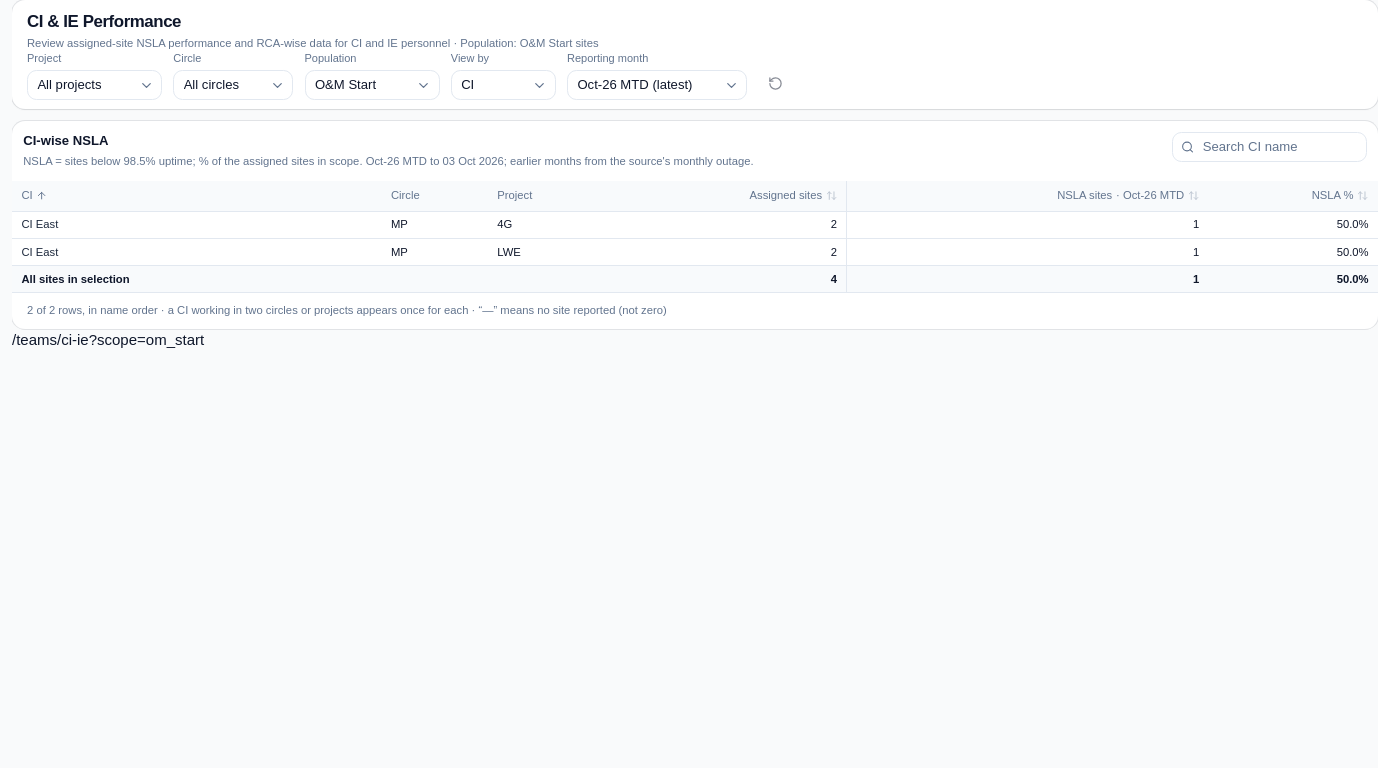
Test: Uptime Buckets & Site Details › Flow B: a CI name opens that person's sites (name, project and circle), with NSLA and Back
Click the link with aria-label "Sites of CI East (LWE MP)".
click(40, 252)  # box [21,246,58,258]
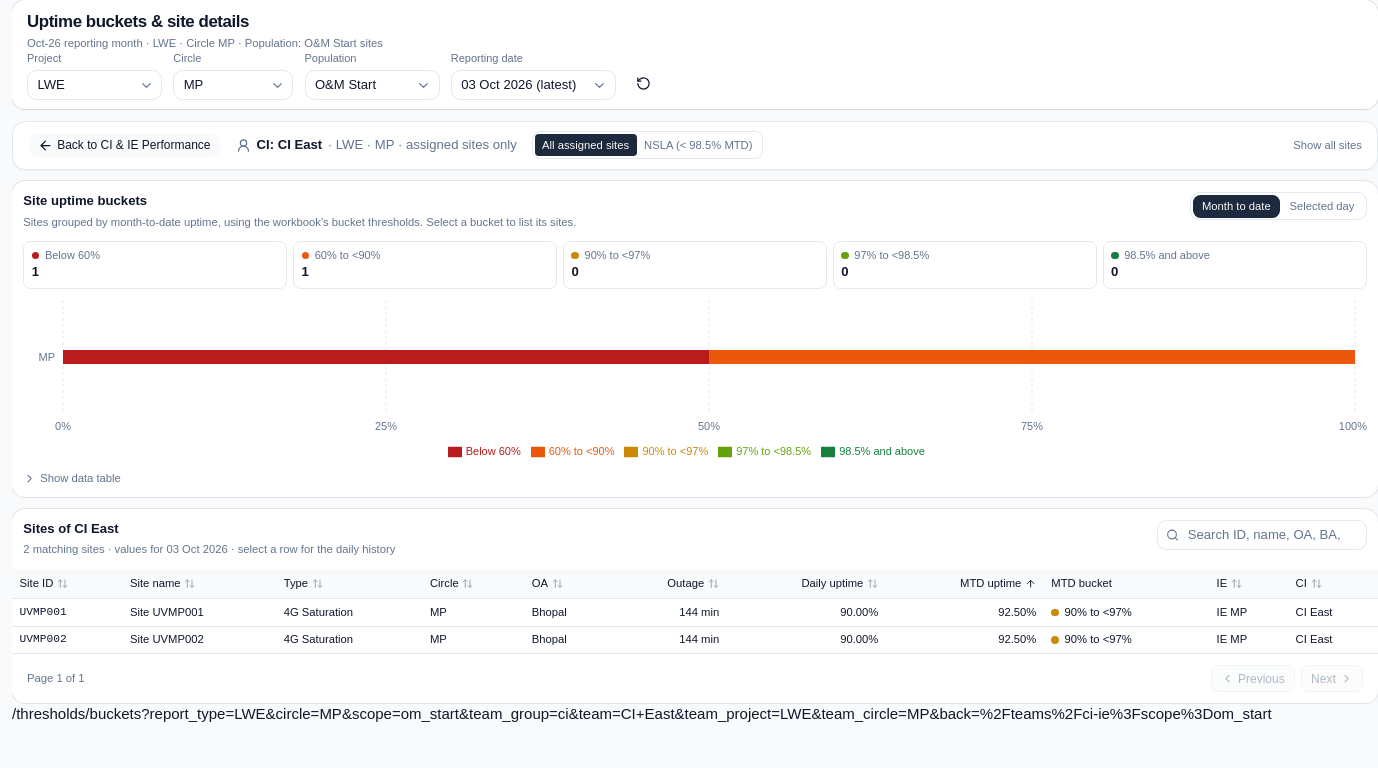
Click the button "NSLA (< 98.5% MTD)".
click(698, 145)  # box [636,134,760,156]
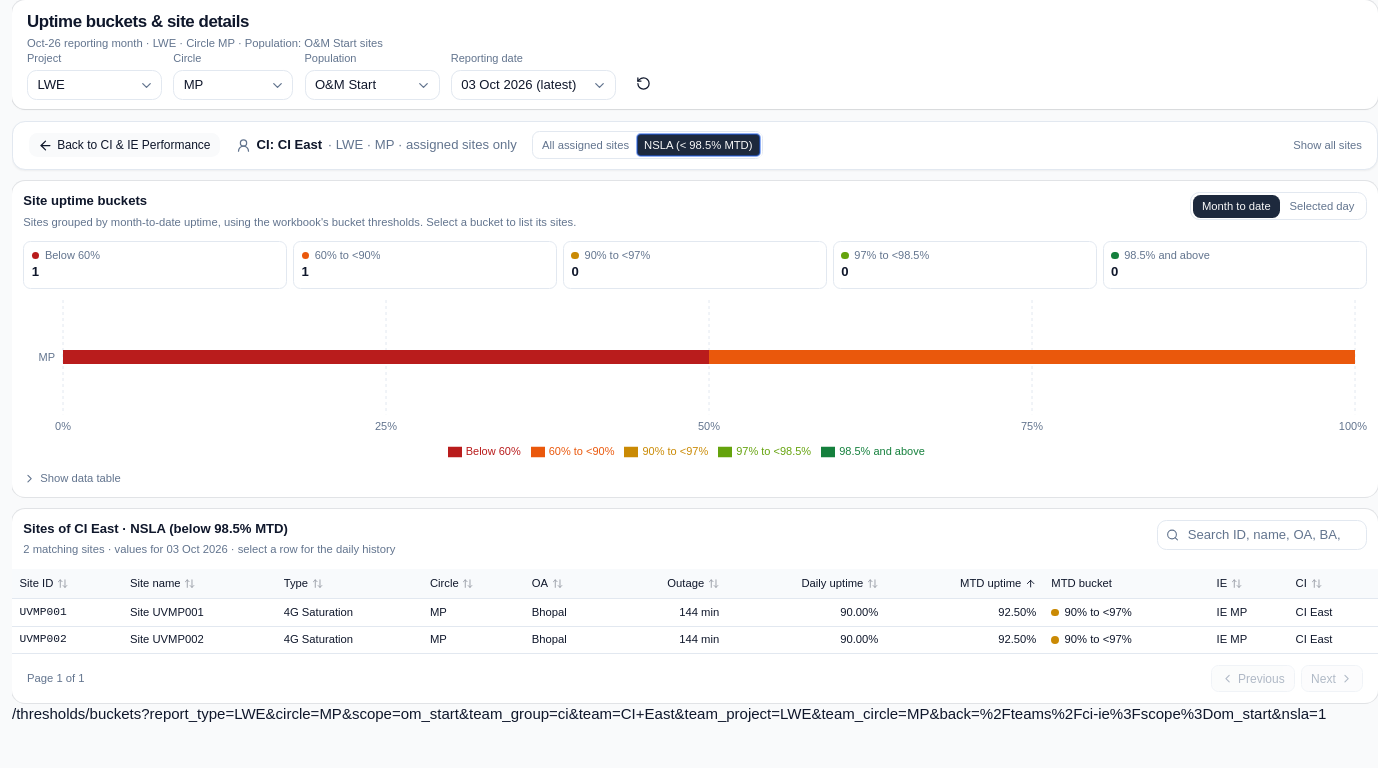
Click the button named "Reset filters".
click(644, 83)  # box [627,66,661,100]
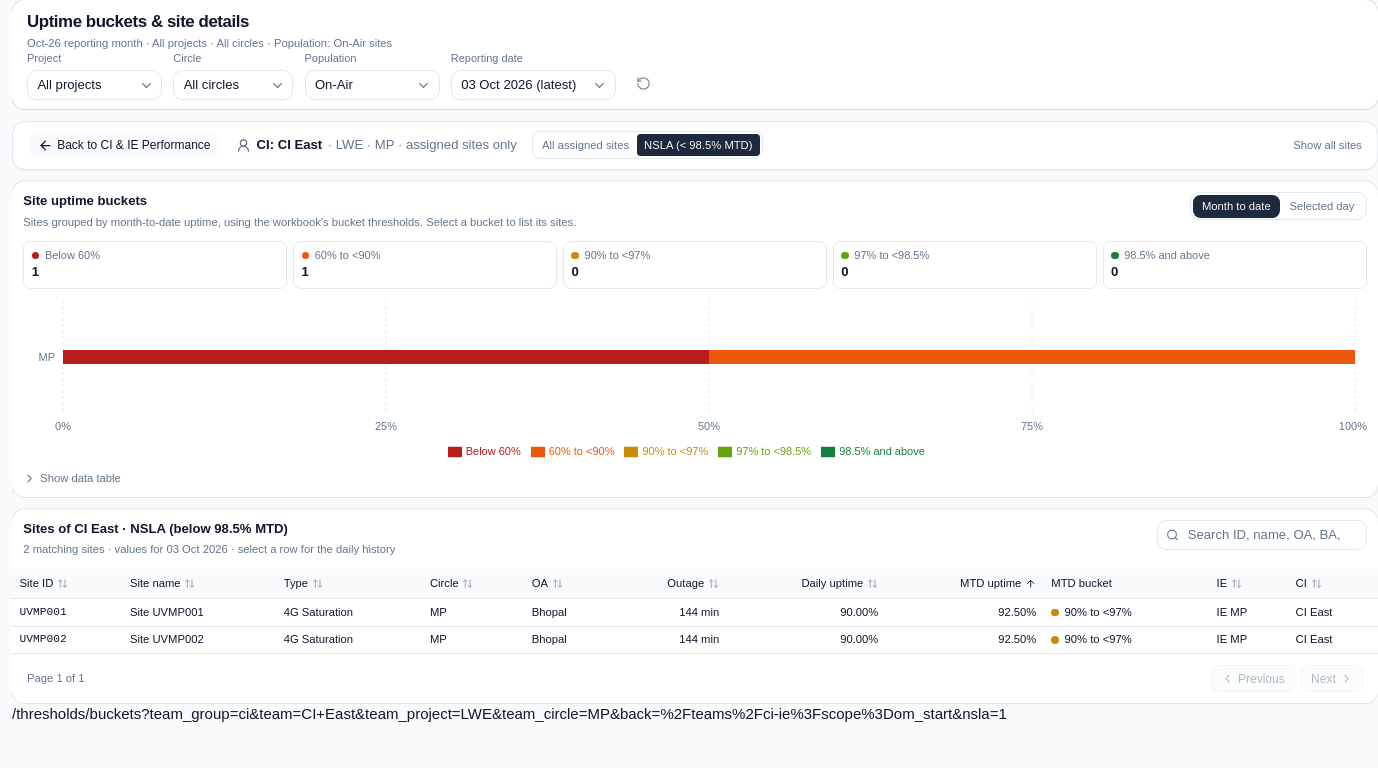
Click the link "Back to CI & IE Performance".
click(124, 145)  # box [28,132,221,158]
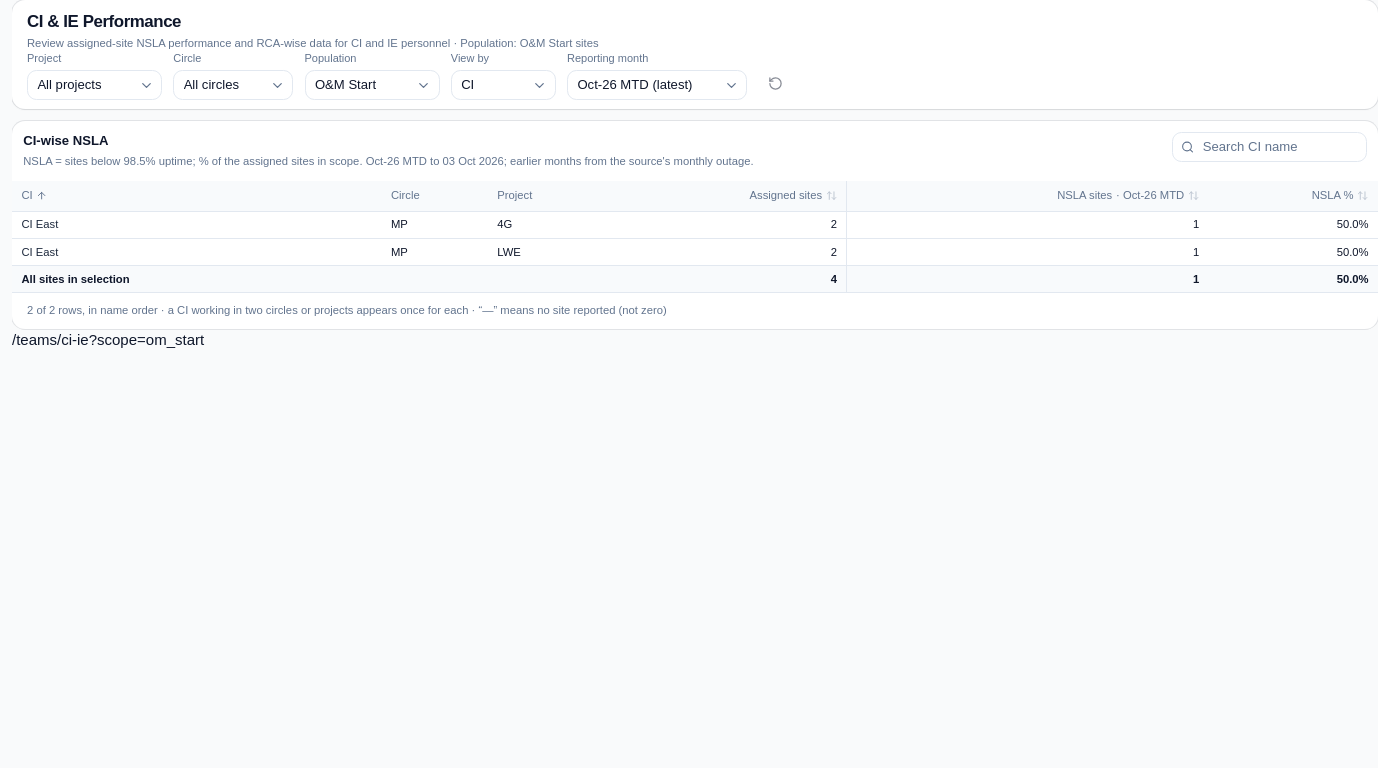
expect the text with test id "location" reads "/teams/ci-ie?scope=om_start": met, box [12,331,204,348]
expect the element named "CI-wise NSLA table" is shown: met, box [12,181,1377,292]
